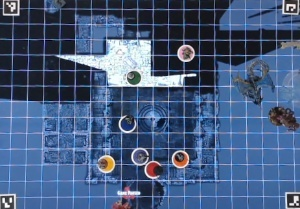blue: (117, 113, 138, 137)
green: (122, 67, 146, 88)
orange: (169, 148, 191, 171)
pink: (175, 41, 197, 65)
red: (143, 157, 164, 180)
violet: (129, 147, 153, 166)
yellow: (96, 153, 119, 174)
